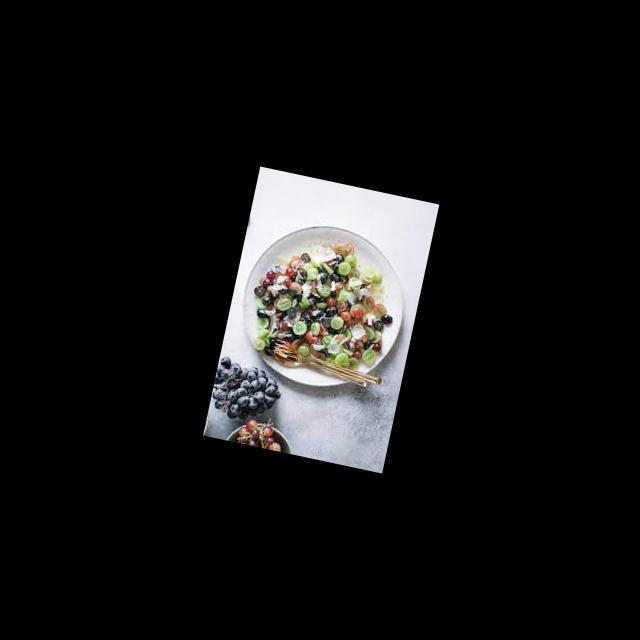grape: (239, 234, 403, 381), (207, 354, 284, 428), (233, 414, 286, 451)
